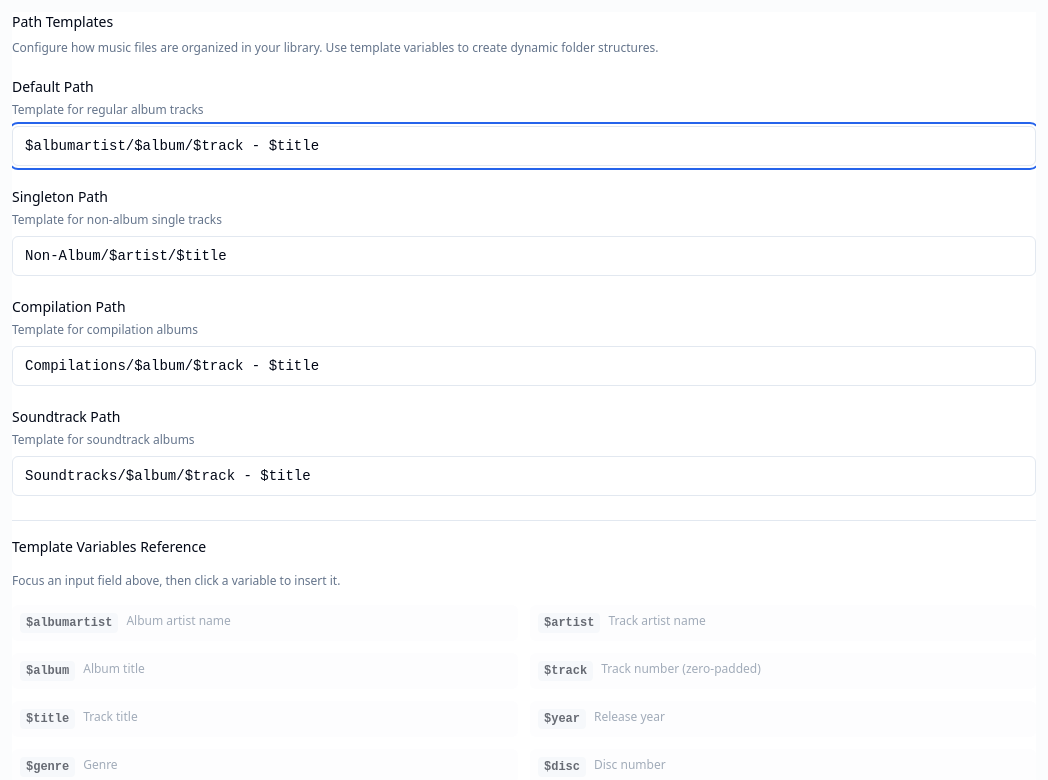
Test case: PathTemplatesSection › inserts a variable at the caret position of the focused field (5.3, 5.4, 5.6, 5.7)
This screenshot has width=1048, height=780.
Focus the field labelled "Default Path" at [524, 146], box [12,126,1036,166]
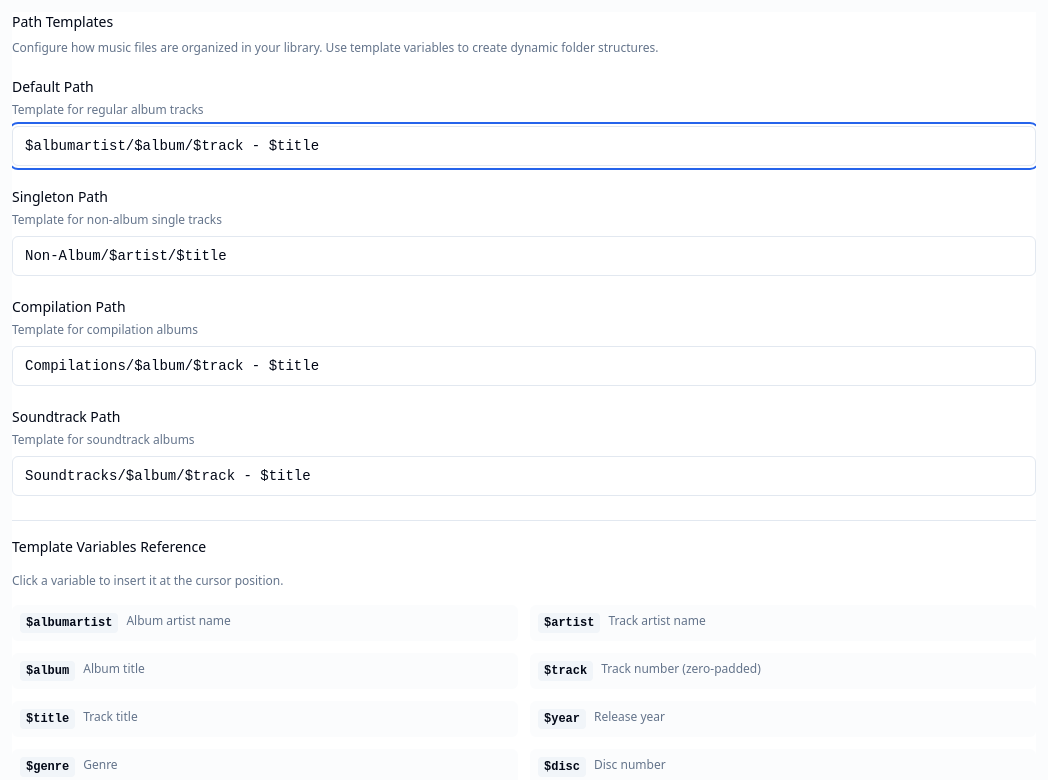
Click the text "$album" at [48, 671], box [20,661,75,681]
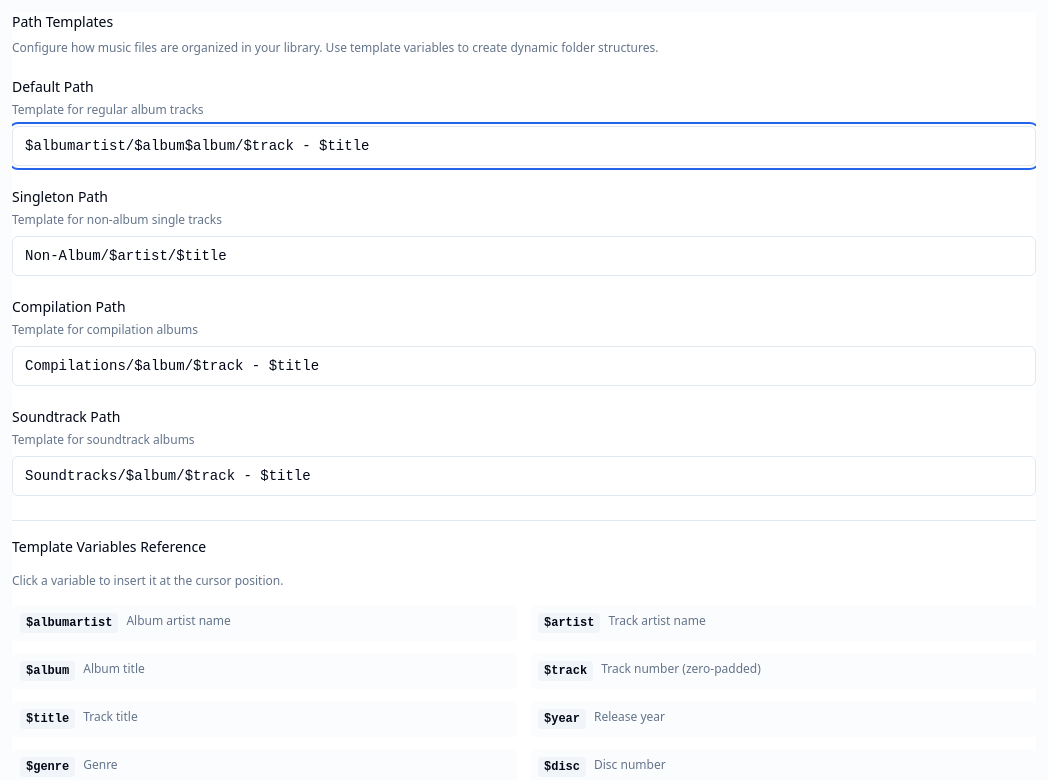
Expected: the field labelled "Default Path" holds "$albumartist/$album$album/$track - $title", [12,126,1036,166]
